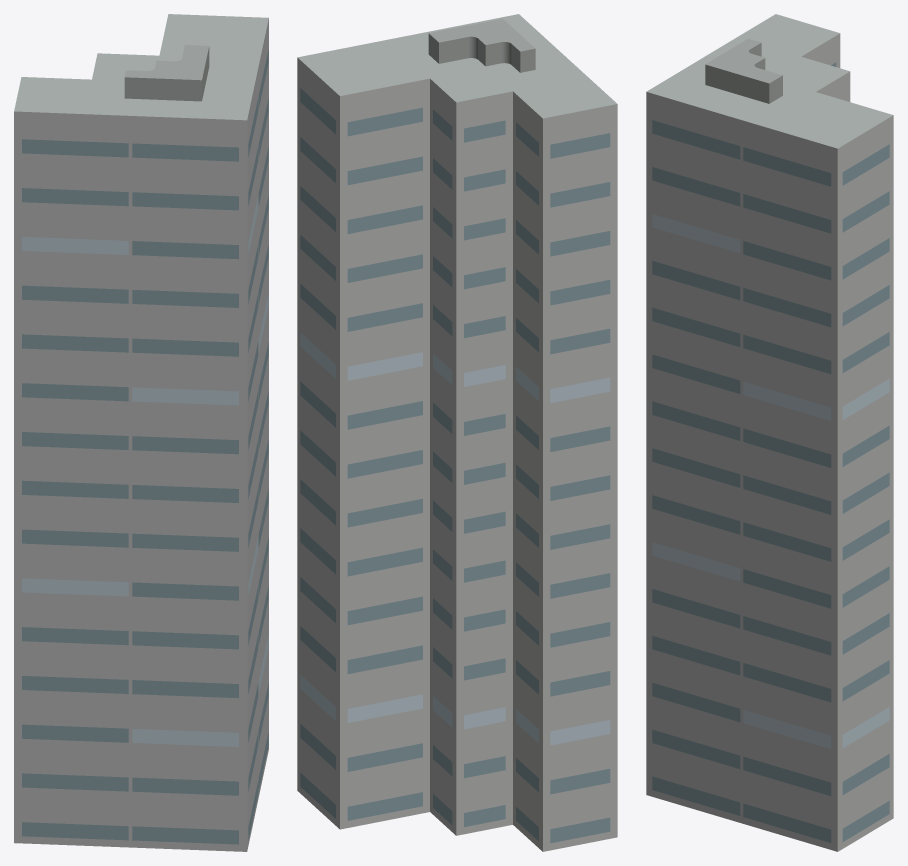
File: fallback-prestige-107.glb
The picture shows the model from 3 angles, left to right: view 1: azimuth 30°, elevation 25°; view 2: azimuth 150°, elevation 25°; view 3: azimuth 270°, elevation 25°; orthographic projection. The views are drawn at different scales.
Parts seen in each view (by area): view 1: fallback-prestige-107; view 2: fallback-prestige-107; view 3: fallback-prestige-107.
Part boxes in pixels (bbox=[...]): fallback-prestige-107: bbox=[14, 14, 268, 851]; fallback-prestige-107: bbox=[297, 14, 617, 851]; fallback-prestige-107: bbox=[646, 14, 893, 851].
Size of the model in its own units: 33.93 by 85 by 26.33.
